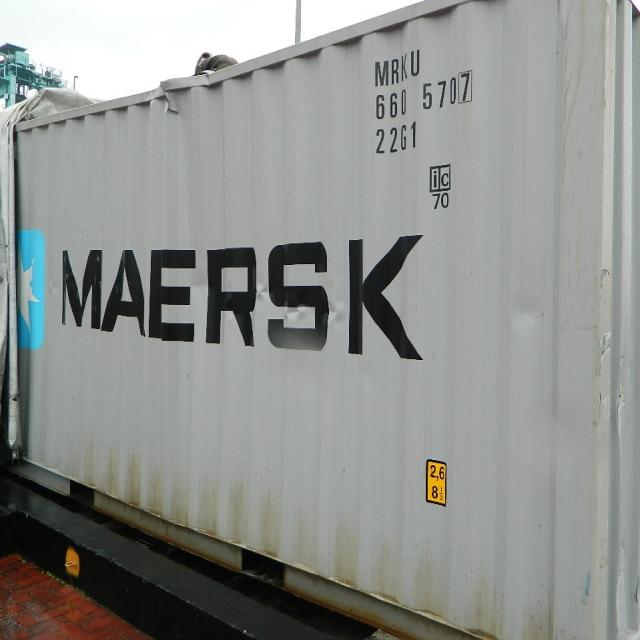dent: (186, 264, 362, 335), (140, 66, 229, 136)
